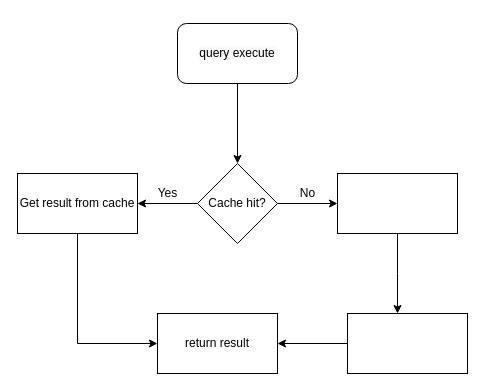
This 485x391 diagram has some shape labels left out. The box of each missing label's shape, as (x1, y1, x2, y2) in pixels:
Get result from inner provider: (336, 172, 458, 234)
Save result in cache: (346, 312, 468, 374)
